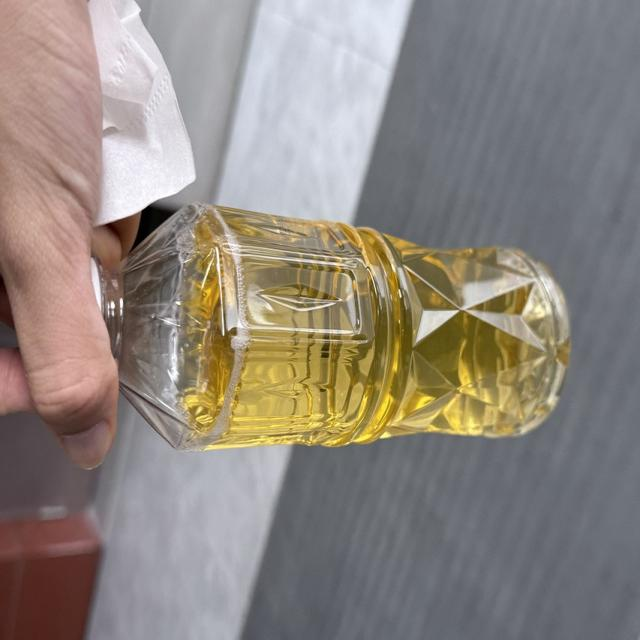high: (93, 204, 568, 448)
